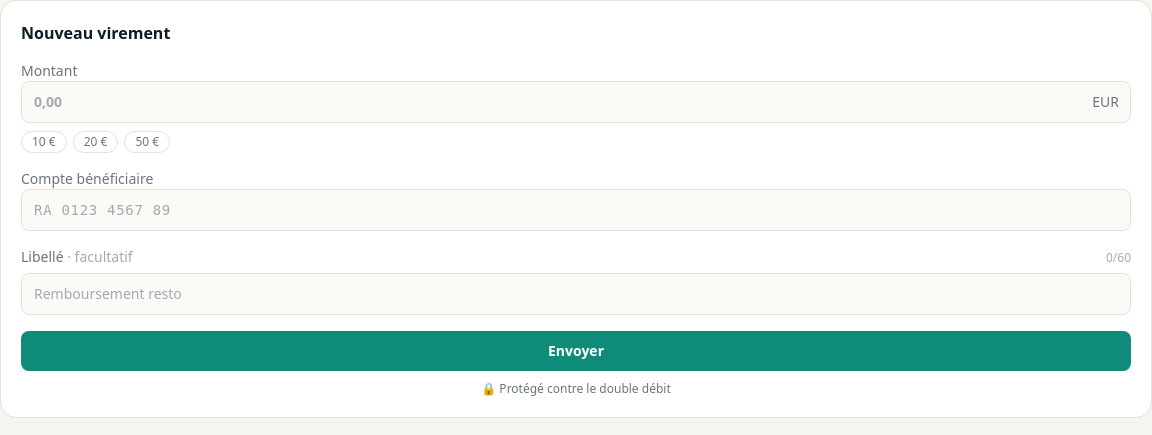
Test: TransferForm : validation › annonce le montant sur le bouton, y compris via les montants rapides
Check: the button "Envoyer" is shown, box 21,331 -> 1131,371
In the field labelled "Montant EUR": x=576, y=102 21,81 -> 1131,123, type "12,5"
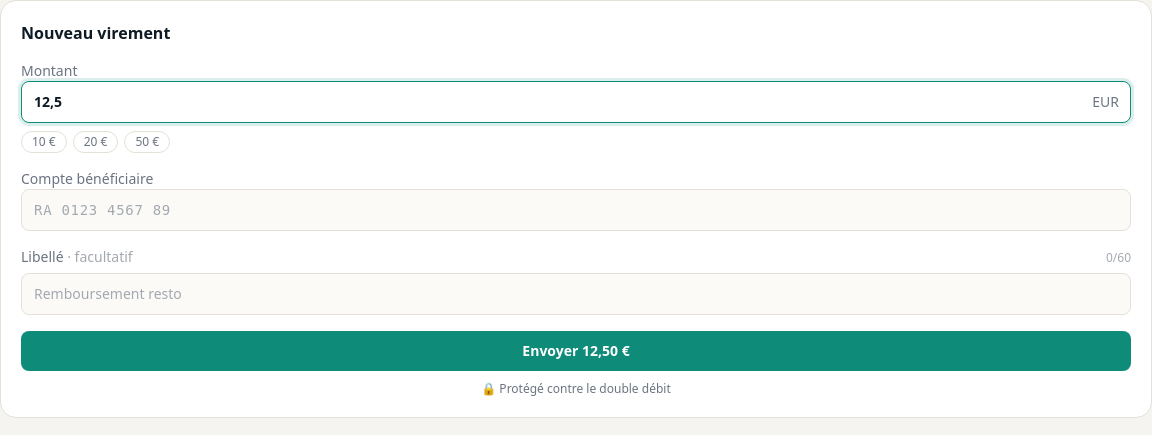
Check: the button "Envoyer 12,50 €" is shown, box 21,331 -> 1131,371
Click the button "20 €": x=96, y=142 73,131 -> 118,153
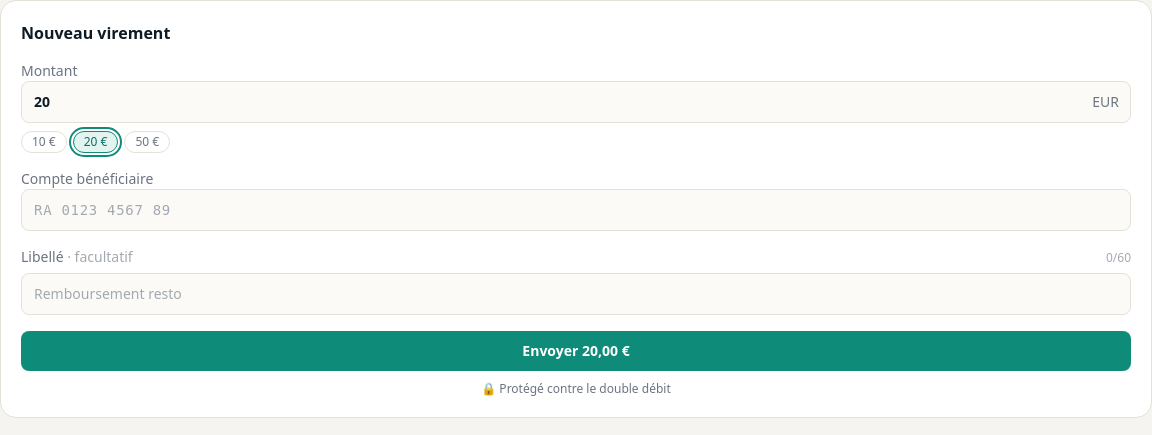
Check: the field labelled "Montant EUR" holds "20", box 21,81 -> 1131,123
Check: the button "Envoyer 20,00 €" is shown, box 21,331 -> 1131,371
